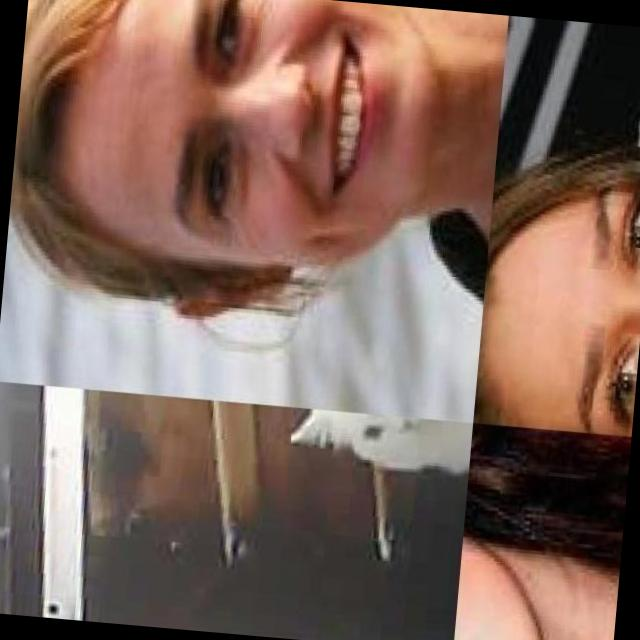bareface: (17, 0, 447, 354)
